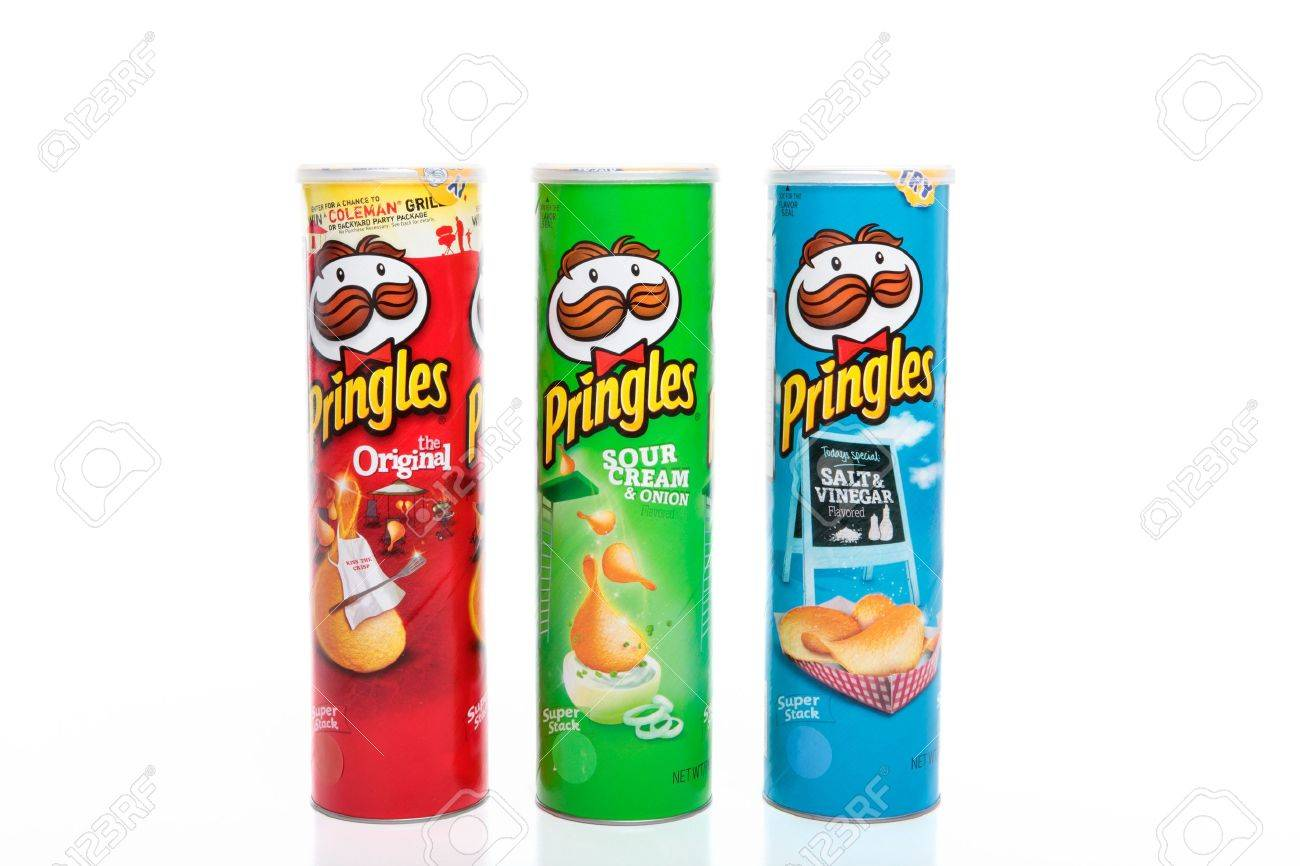pringle: (288, 149, 511, 827)
